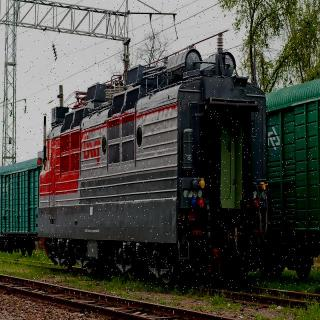poezd: (40, 72, 266, 271)
